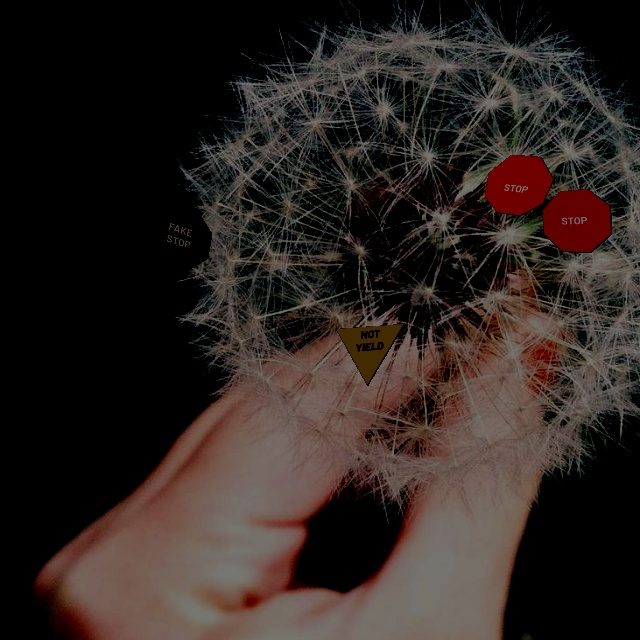FAKE_STOP: (145, 201, 212, 271)
NOT_YIELD: (335, 323, 405, 386)
STOP: (542, 188, 612, 253), (484, 154, 554, 216)
